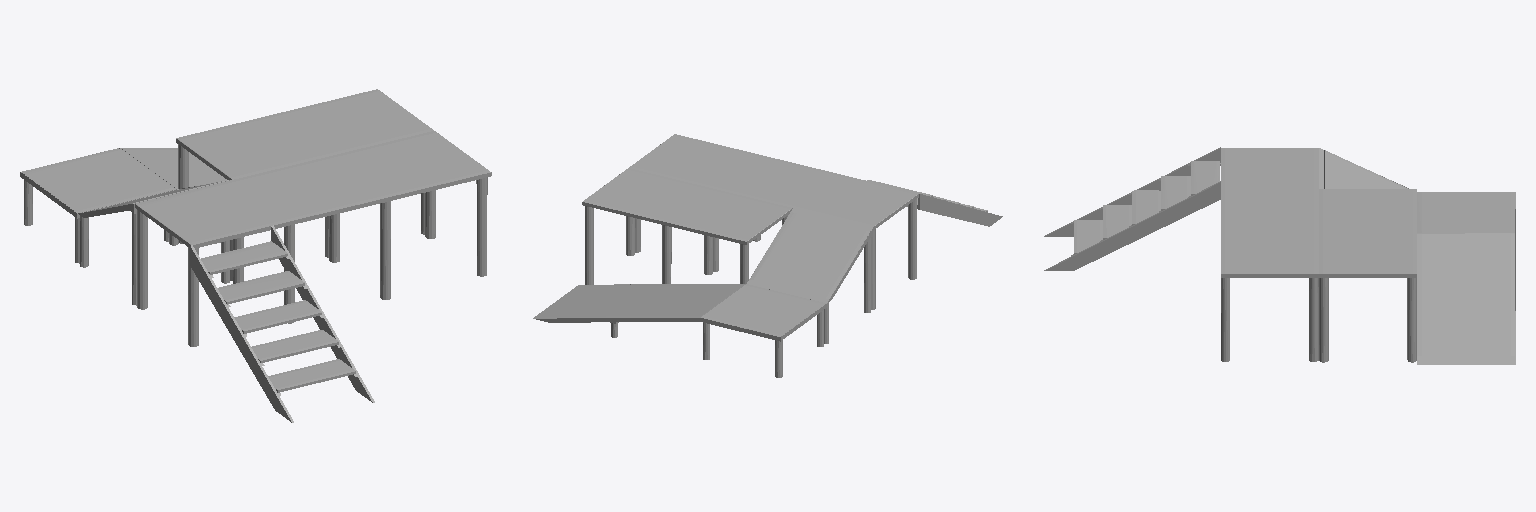
The robot description file, URDF, robot "platform_cad_short":
<?xml version='1.0' encoding='utf-8'?>
<robot name="platform_cad_short">
  <link name="base_link">
    <inertial>
      <origin xyz="0.0 0.0 0.0" rpy="0 0 0" />
      <mass value="1" />
      <inertia ixx="0.001" ixy="0" ixz="0" iyy="0.001" iyz="0" izz="0.001" />
    </inertial>
    <visual>
      <origin xyz="0 0 0" rpy="0 0 0" />
      <geometry>
        <mesh filename="package://platform_cad_short/meshes/platform_cad_short.stl" scale="1 1 1" />
      </geometry>
      <material name="grey">
        <color rgba="0.7 0.7 0.7 1.0" />
      </material>
    </visual>
    <collision>
      <origin xyz="0 0 0" rpy="0 0 0" />
      <geometry>
        <mesh filename="package://platform_cad_short/meshes/platform_cad_short.stl" scale="1 1 1" />
      </geometry>
    </collision>
  </link>
</robot>

--- Render facts (derived) ---
3 views of the same robot in one strip: view 1: azimuth 30°, elevation 25°; view 2: azimuth 150°, elevation 25°; view 3: azimuth 270°, elevation 25° (orthographic).
Model platform_cad_short with 1 links and 0 joints (none), rooted at base_link, posed every joint at zero.
Links seen in each view (by area): view 1: base_link; view 2: base_link; view 3: base_link.
Boxes of the visible links, x1,y1,x2,y2 form: base_link: (20,89,491,422); base_link: (533,134,1002,377); base_link: (1044,147,1515,364).
Size in the robot's own frame: 3.11 by 4.82 by 1 metres.
1 mesh visuals loaded from 1 distinct referenced files (1 binary STL).